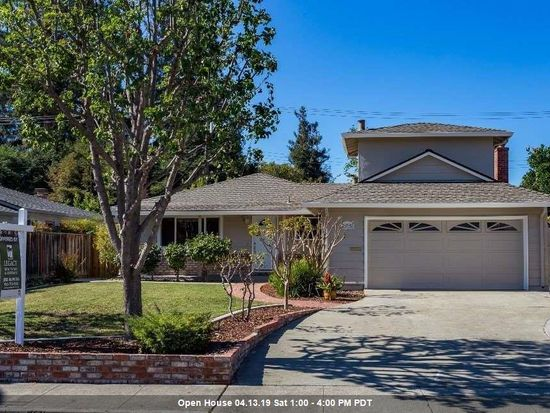tree: (1, 1, 282, 342)
